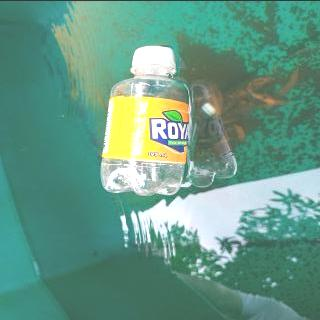bottle: (96, 44, 194, 195)
